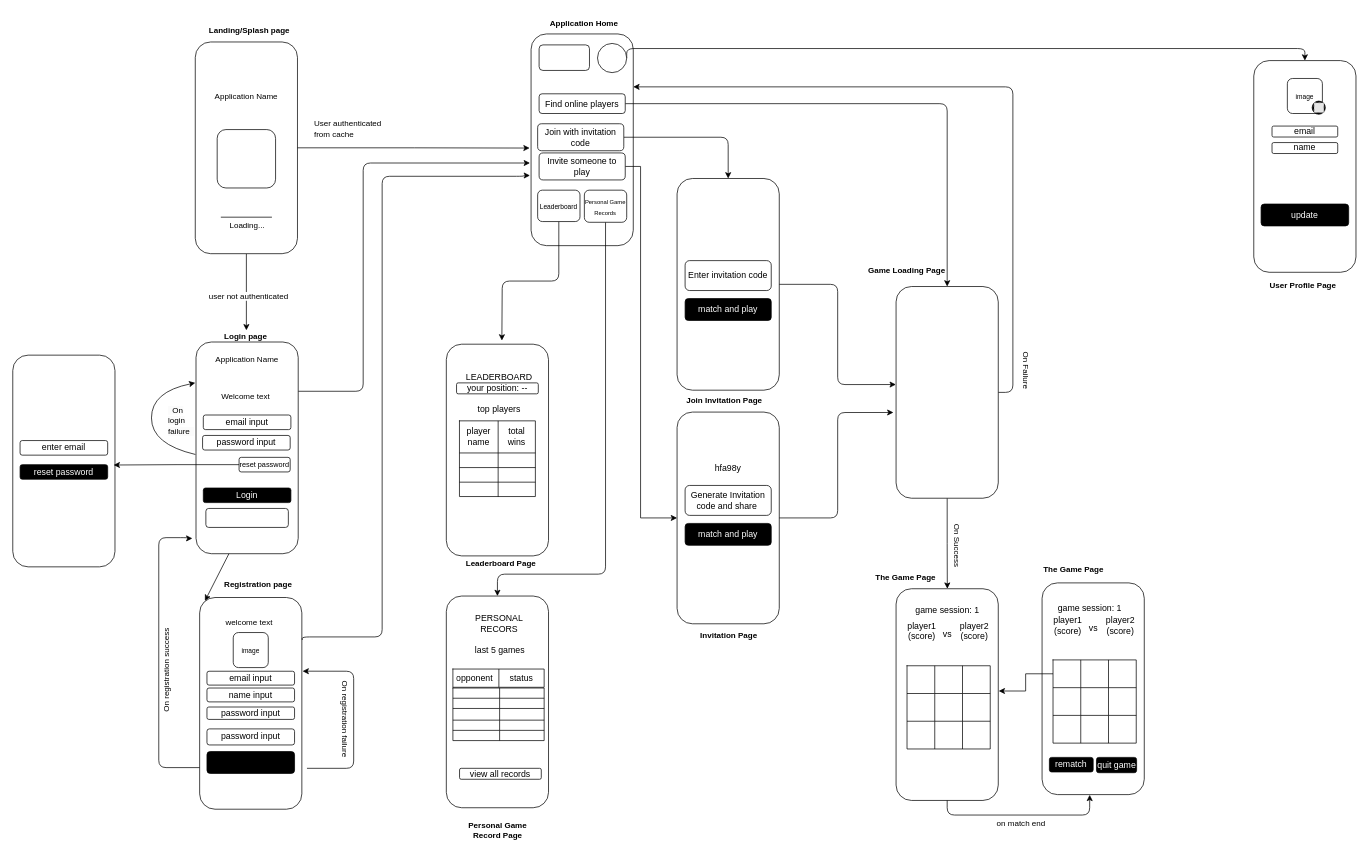
Some shapes in this 1369 by 856 pixel diagram are drawn without their labels. Grey dashed boxes stand in for pictures. Each missing label, with the box of its shape:
app name / logo: (538, 44, 589, 70)
create an account: (205, 508, 288, 527)
finding player/match (loading screen): (895, 286, 998, 498)
Logo: (216, 129, 276, 188)
Register: (206, 751, 295, 773)
user image, name: (597, 43, 627, 73)
